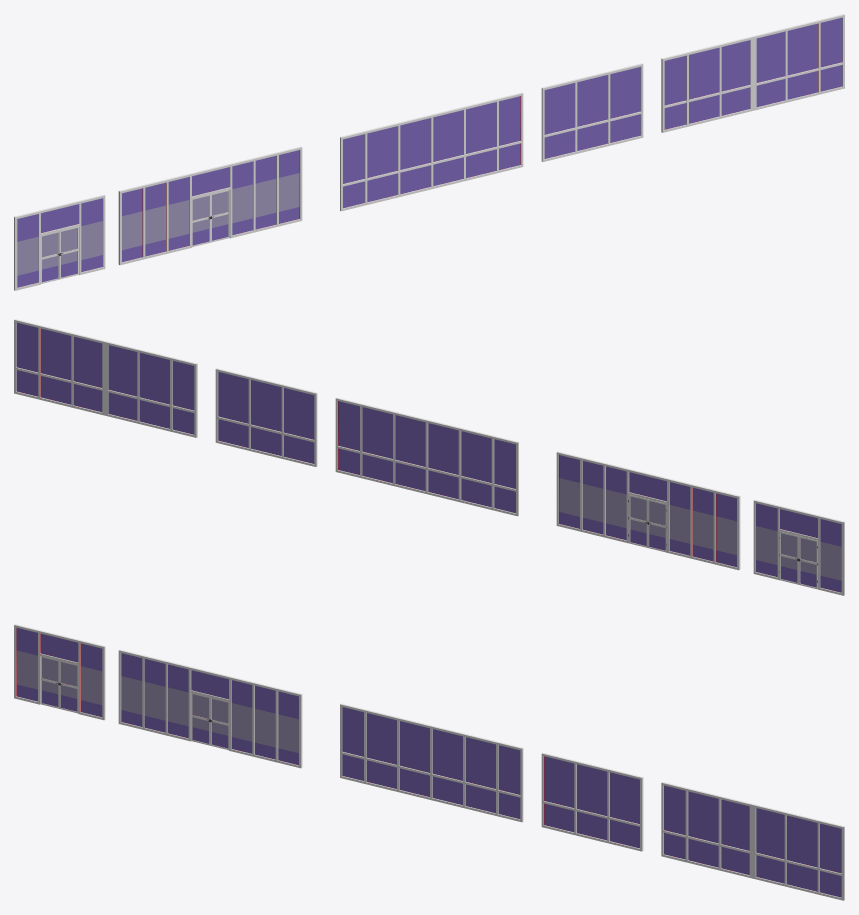
The model's file is Glass Walls.fbx.
The picture shows the model from 3 angles, top to bottom: view 1: azimuth 30°, elevation 25°; view 2: azimuth 150°, elevation 25°; view 3: azimuth 330°, elevation 25°; orthographic projection.
Visible parts, largest first — view 1: Glass_Windows_3, Glass_Windows_2, Wall_Glass_1, Glass_Windows_1, Wall_Glass_2, Door_Right_2, Door_Right, Door_Left, Door_Left_2; view 2: Glass_Windows_3, Glass_Windows_2, Wall_Glass_1, Glass_Windows_1, Wall_Glass_2, Door_Left, Door_Right_2, Door_Right, Door_Left_2; view 3: Glass_Windows_2, Glass_Windows_3, Wall_Glass_1, Glass_Windows_1, Wall_Glass_2, Door_Left_2, Door_Left, Door_Right, Door_Right_2.
Part boxes in pixels (x1,y1,x2,y2): Glass_Windows_3: (661, 14, 844, 132); Glass_Windows_2: (340, 92, 523, 211); Wall_Glass_1: (118, 146, 302, 265); Glass_Windows_1: (541, 63, 643, 161); Wall_Glass_2: (14, 194, 105, 290); Door_Right_2: (210, 190, 229, 242); Door_Right: (59, 226, 78, 279); Door_Left: (41, 231, 59, 283); Door_Left_2: (192, 194, 210, 247); Glass_Windows_3: (14, 319, 197, 437); Glass_Windows_2: (335, 397, 518, 516); Wall_Glass_1: (556, 451, 740, 570); Glass_Windows_1: (215, 368, 317, 466); Wall_Glass_2: (753, 499, 844, 595); Door_Left: (798, 536, 817, 589); Door_Right_2: (628, 494, 647, 547); Door_Right: (779, 531, 798, 584); Door_Left_2: (648, 499, 666, 552); Glass_Windows_2: (340, 703, 523, 822); Glass_Windows_3: (661, 782, 844, 900); Wall_Glass_1: (118, 649, 302, 768); Glass_Windows_1: (541, 753, 643, 851); Wall_Glass_2: (14, 624, 105, 720); Door_Left_2: (191, 693, 210, 745); Door_Left: (40, 656, 59, 708); Door_Right: (59, 661, 78, 713); Door_Right_2: (210, 697, 228, 750).
Bounding box in the file's own units: 4129 × 350 × 13.61.
